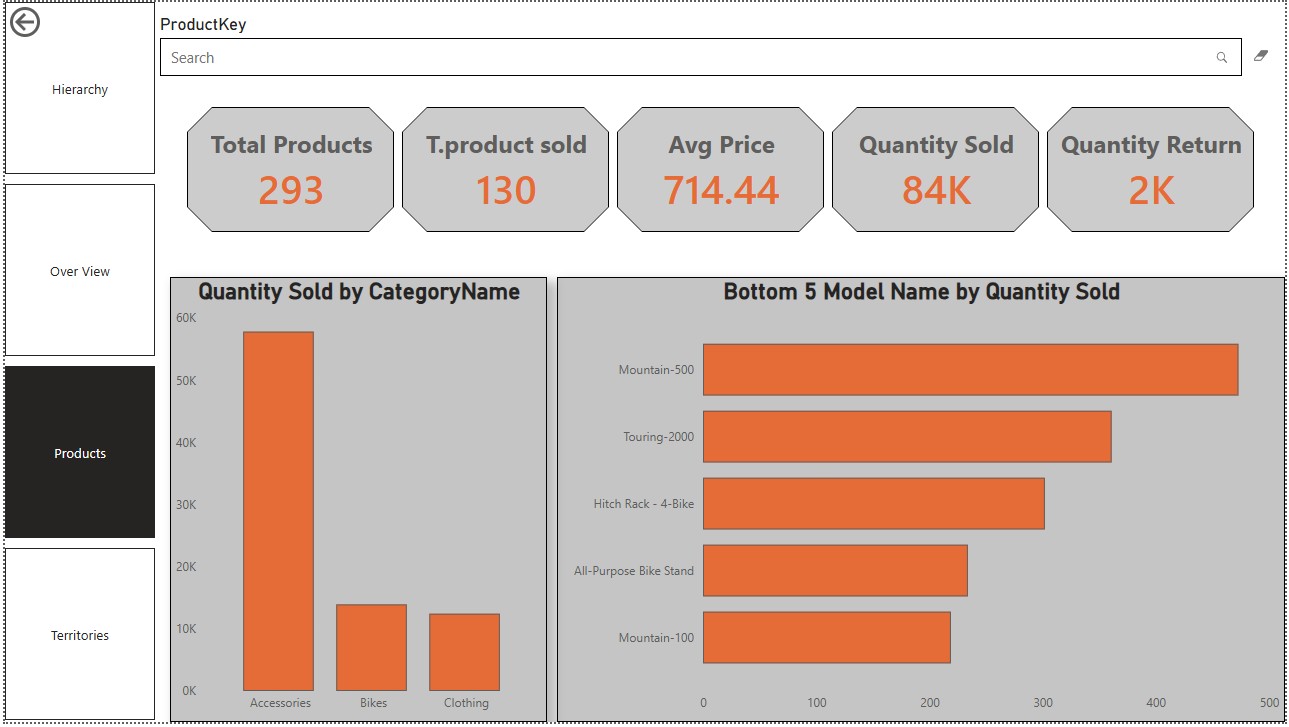

Layout of this report page (visuals, bound fields, positions):
{"tool":"powerbi","page":{"name":"Products","canvas":[1280,720],"ordinal":2},"visuals":[{"type":"pageNavigator","box":[0,0,150.4,720.2],"z":0},{"type":"textFilter25A4896A83E0487089E2B90C9AE57C8A","fields":{"field":["Dim Product.ProductKey"]},"box":[150.4,12.2,1129.9,75.8],"z":1000},{"type":"cardVisual","fields":{"Data":["A Measurable Table.Total Products","A Measurable Table.T.product sold","A Measurable Table.Avg Price","A Measurable Table.Quantity Sold","A Measurable Table.Quantity Return"]},"box":[165,88,1103,159],"z":2000},{"type":"clusteredColumnChart","fields":{"Category":["Product_Categories.CategoryName"],"Y":["A Measurable Table.Quantity Sold"]},"box":[164.5,274.5,377.3,445.5],"z":3000},{"type":"actionButton","box":[0,0,100,40],"z":4000},{"type":"barChart","title":"Bottom 5 Model Name by Quantity Sold","fields":{"Category":["Dim Product.ModelName"],"Y":["A Measurable Table.Quantity Sold"]},"box":[551.8,274.5,728.2,445.5],"z":5000}]}

Visuals, with their boxes on the page's 1280x720 design canvas (x1, y1, x2, y2). These are canvas units, not pixel positions in the 1289x727 screenshot, which may show the page scaled, cropped or inside an application window:
pageNavigator: (0,0,150,720)
textFilter25A4896A83E0487089E2B90C9AE57C8A - Dim Product.ProductKey: (150,12,1280,88)
cardVisual - A Measurable Table.Total Products x A Measurable Table.T.product sold: (165,88,1268,247)
clusteredColumnChart - Product_Categories.CategoryName x A Measurable Table.Quantity Sold: (164,274,542,720)
actionButton: (0,0,100,40)
"Bottom 5 Model Name by Quantity Sold" barChart: (552,274,1280,720)
